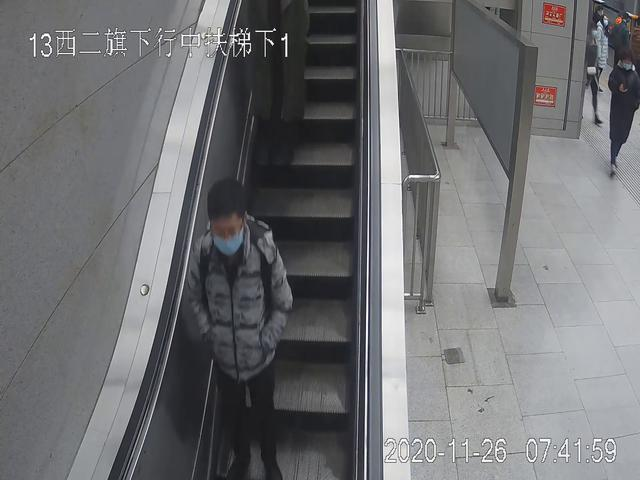person: (185, 182, 294, 480), (606, 54, 640, 178)
